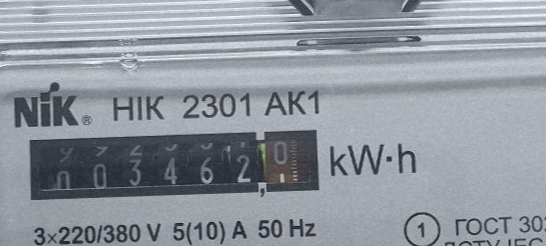0: (90, 158, 109, 188), (272, 137, 290, 166), (52, 166, 72, 189)
2: (234, 151, 253, 183)
3: (125, 155, 144, 188)
4: (162, 153, 180, 186)
6: (196, 152, 217, 186)
9: (55, 144, 75, 163)
screen: (16, 116, 331, 218)
